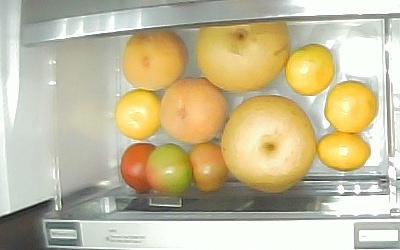peach: (160, 77, 227, 143), (122, 30, 188, 90)
pear: (221, 95, 315, 192), (195, 21, 289, 93)
tangerine: (324, 80, 376, 132), (284, 43, 335, 96), (114, 89, 161, 139), (317, 134, 370, 173)
tomato: (145, 143, 191, 197), (188, 142, 227, 193), (120, 143, 156, 193)
